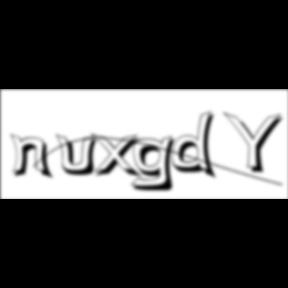Y: (222, 110, 288, 176)
d: (172, 110, 222, 182)
g: (131, 134, 183, 194)
n: (10, 132, 58, 181)
u: (56, 132, 104, 178)
x: (92, 132, 146, 181)
